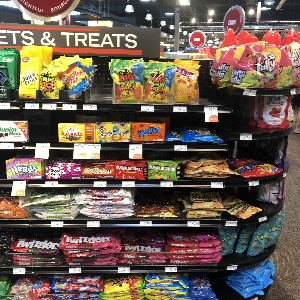void: (220, 94, 253, 133)
